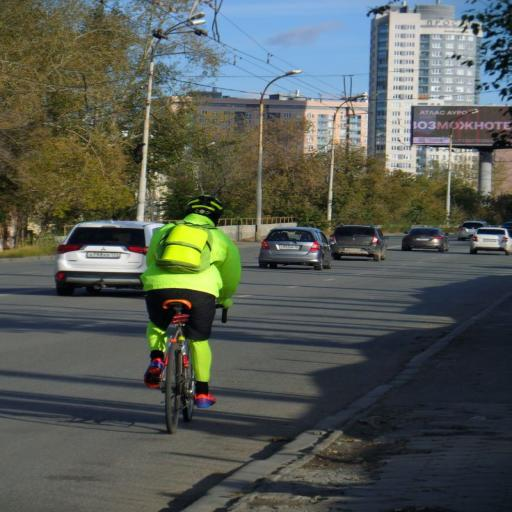bag: (143, 294, 204, 440)
bottle: (48, 197, 184, 300), (247, 215, 340, 279), (327, 218, 392, 266), (455, 215, 512, 260), (396, 217, 452, 257)
construction_fence: (169, 287, 510, 511)
laptop: (136, 185, 235, 410)
phone: (115, 10, 385, 225)
ramp: (0, 244, 509, 511)
